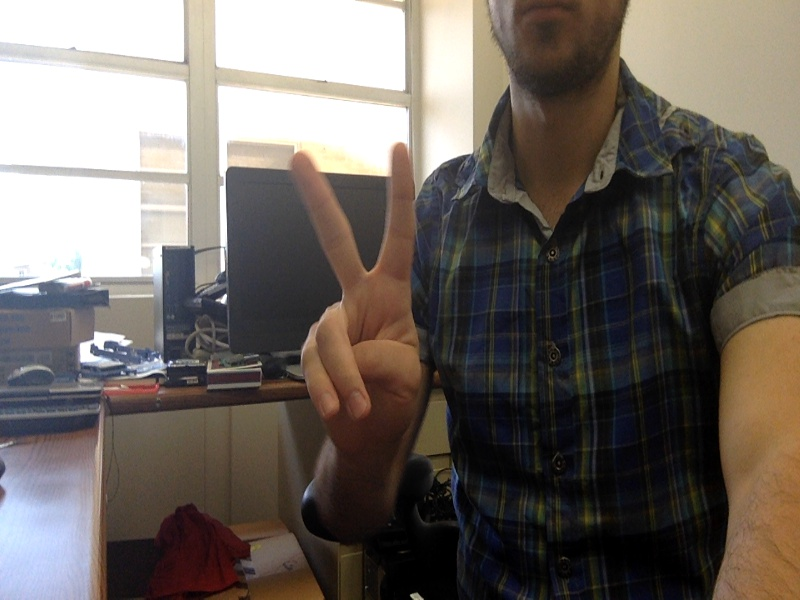2-hand: (284, 145, 424, 453)
